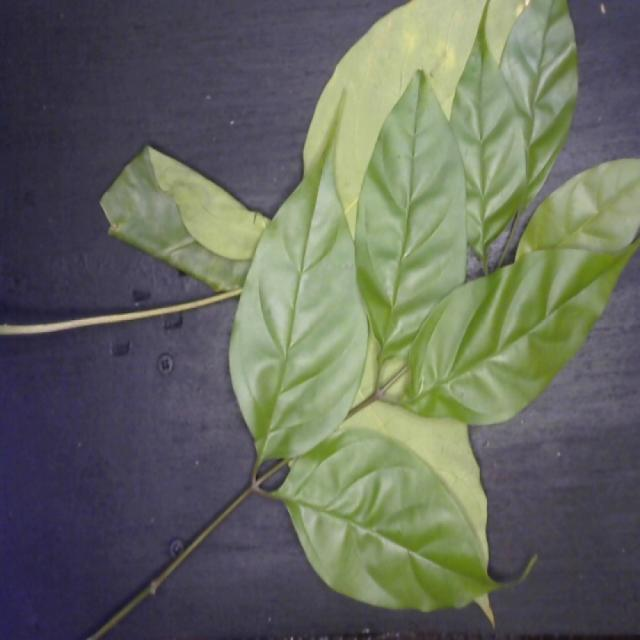biodegradable: (96, 0, 640, 631)
